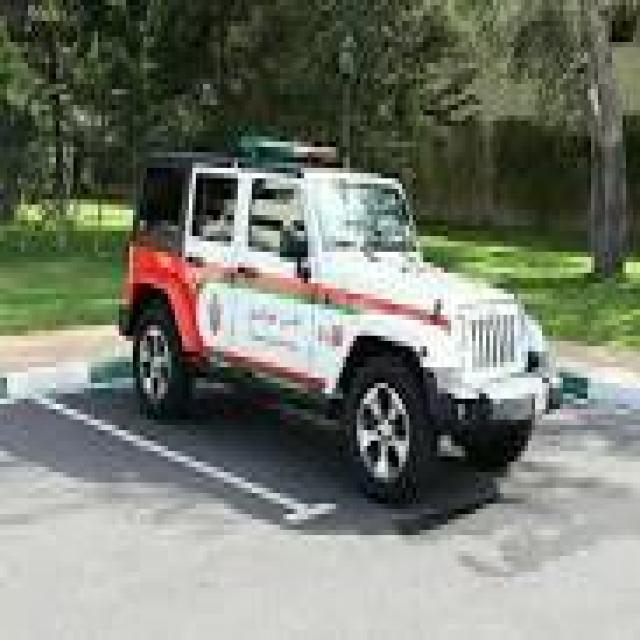police: (122, 127, 555, 509)
